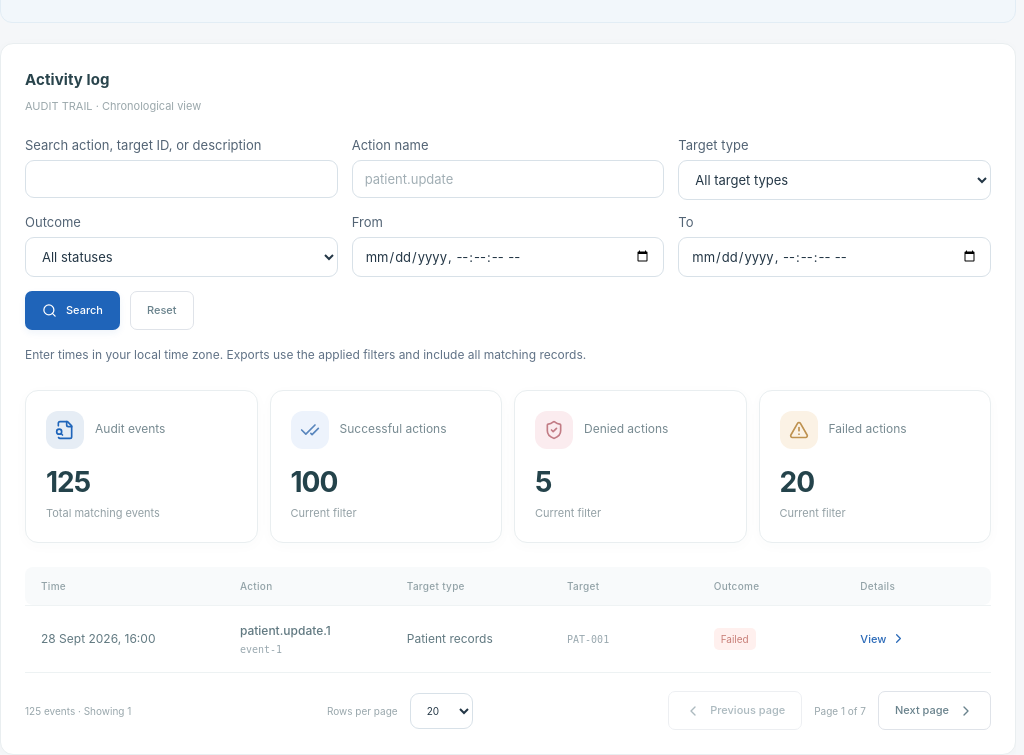
Test case: Audit query and export › uses server totals and requests later pages rather than filtering the first 100 records
(page scrolled)
Expected: the text "patient.update.1" is shown, [240,623,331,638]
Expected: the text "125 events · Showing 1" is shown, [25,705,131,717]
Step 1. Click the button "Next page" → click(934, 711), box [878,691,991,730]
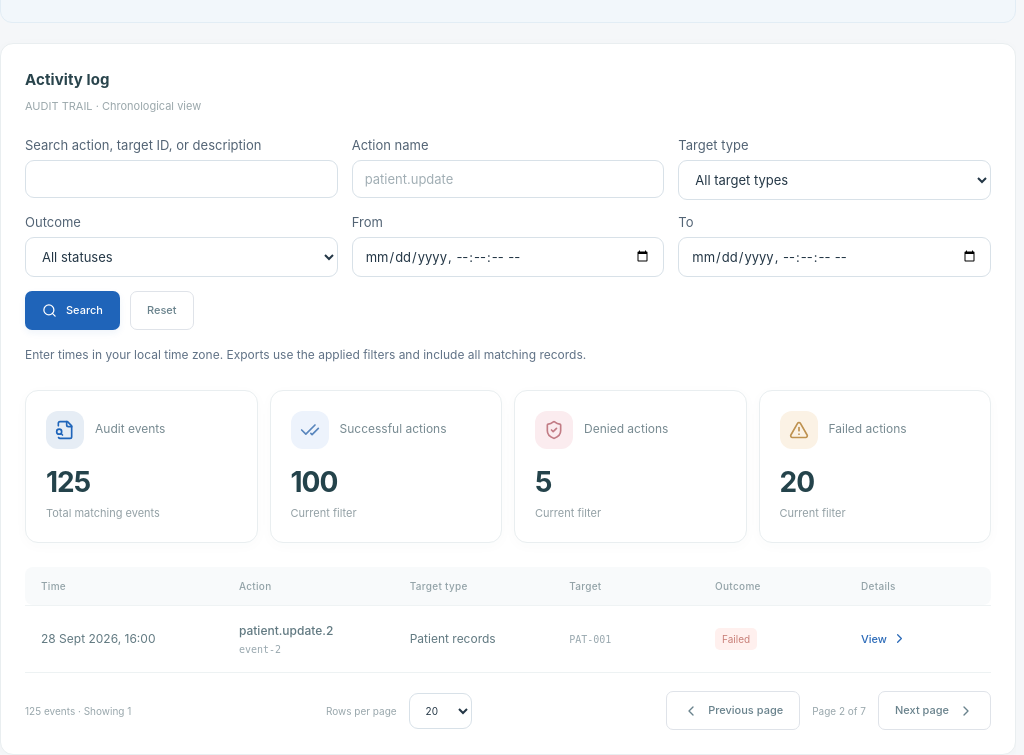
Expected: the text "patient.update.2" is shown, [239,623,333,638]
